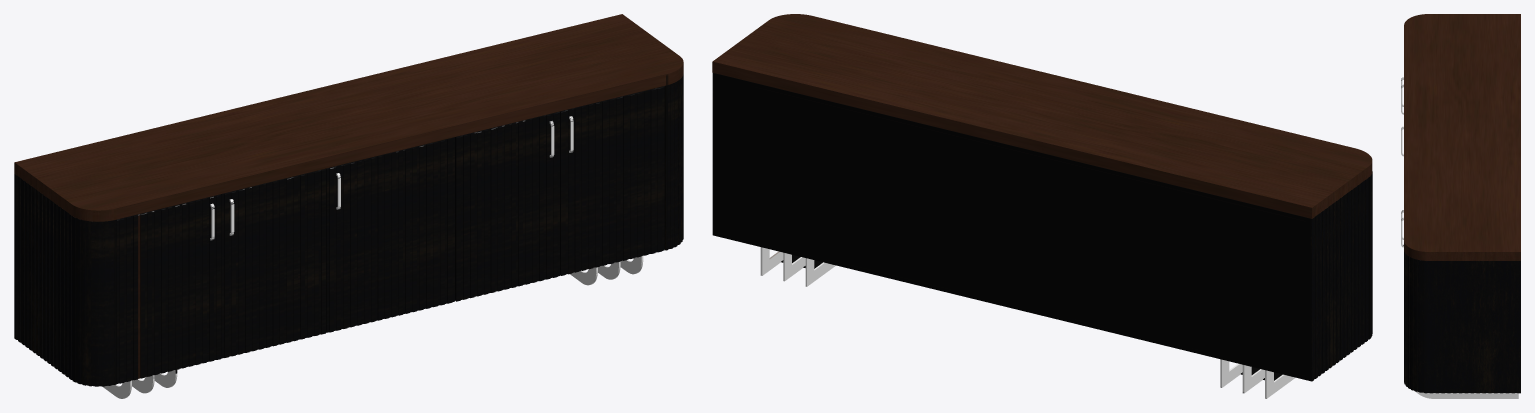
Rendered from sworddolap.glb.
3 renders of one model, left to right at view 1: azimuth 30°, elevation 25°; view 2: azimuth 150°, elevation 25°; view 3: azimuth 270°, elevation 25°, orthographic. The views are drawn at different scales.
Parts seen in each view (by area): view 1: ASSET_Joined; view 2: ASSET_Joined; view 3: ASSET_Joined.
Boxes of the visible parts, x1=… form: ASSET_Joined: x1=14, y1=14, x2=683, y2=398; ASSET_Joined: x1=712, y1=14, x2=1372, y2=398; ASSET_Joined: x1=1401, y1=14, x2=1520, y2=398.
Size of the model in its own units: 2.98 by 0.9663 by 0.6332.
Materials: 1 (1 with a texture image).
